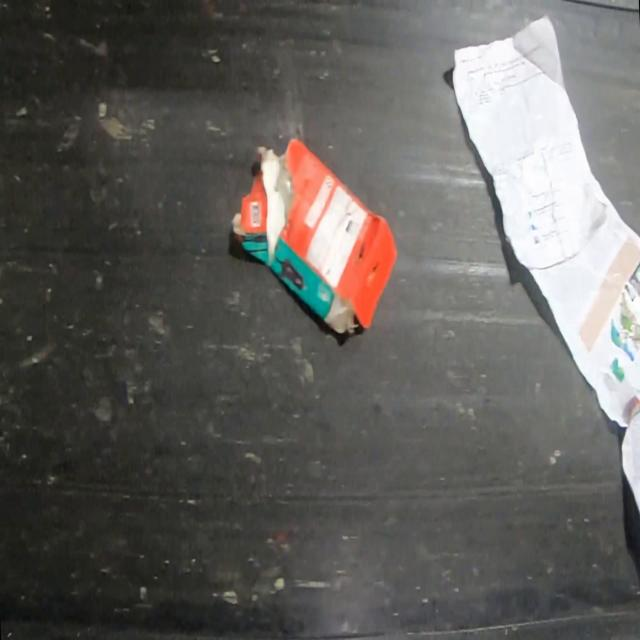cardboard: (230, 137, 398, 335)
